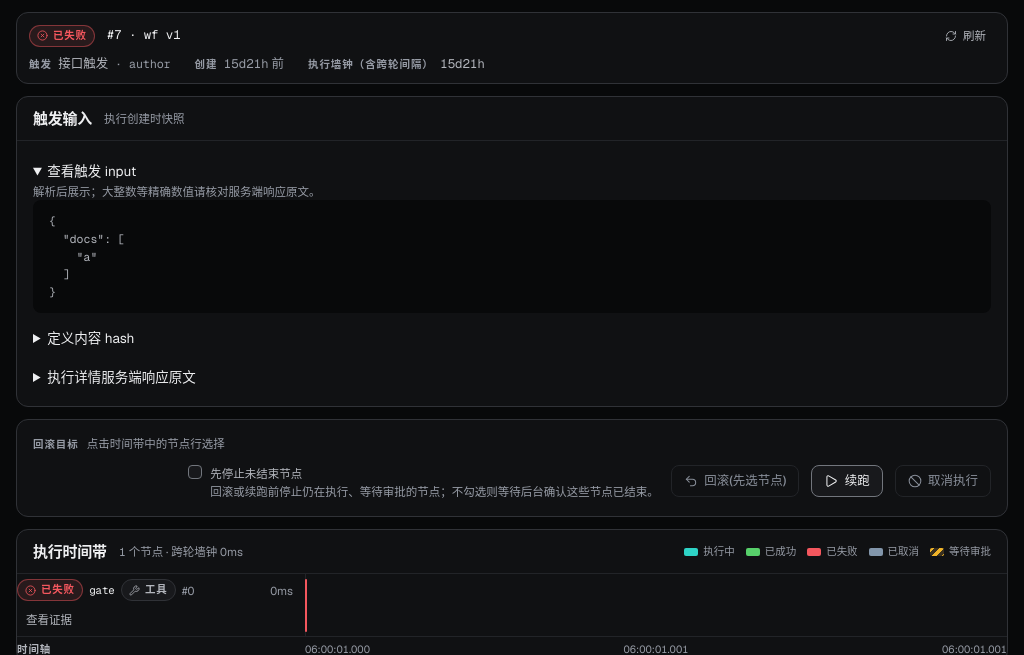
Test: ExecutionDetail(执行详情) › rollback 确认层已开后，读失败或在读期间 403 均零POST且允许放弃
The image size is (1024, 655).
Click the element showing "已失败 gate 工具 #0 0ms 查看证据". click: (512, 606)
box: [17,574,1007,637]
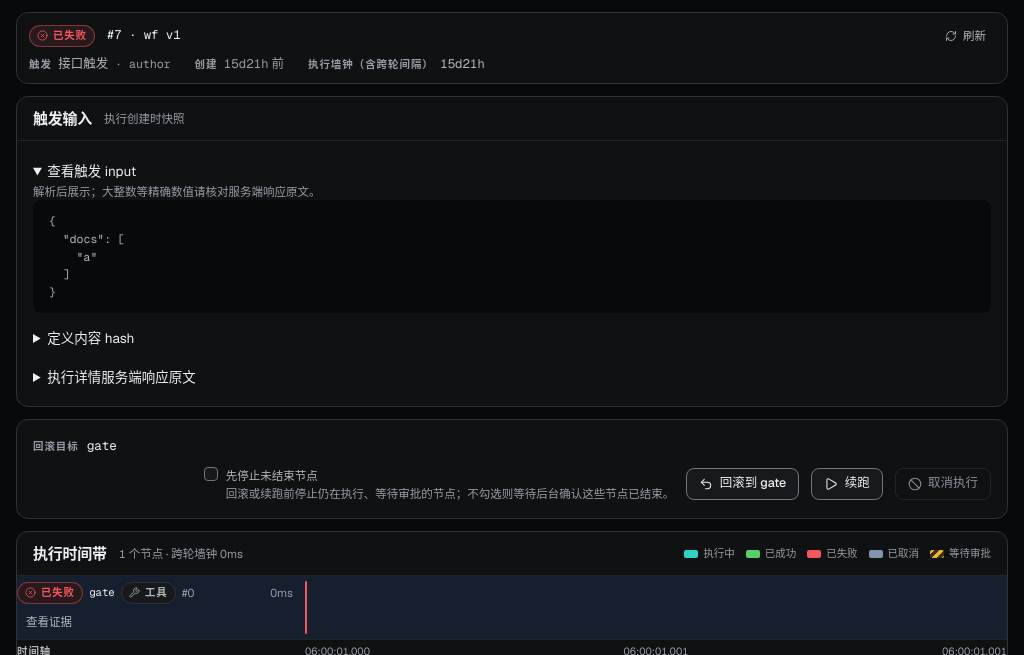
Click the button with test id "rollback-submit". click: (743, 484)
box: [686,468,799,500]
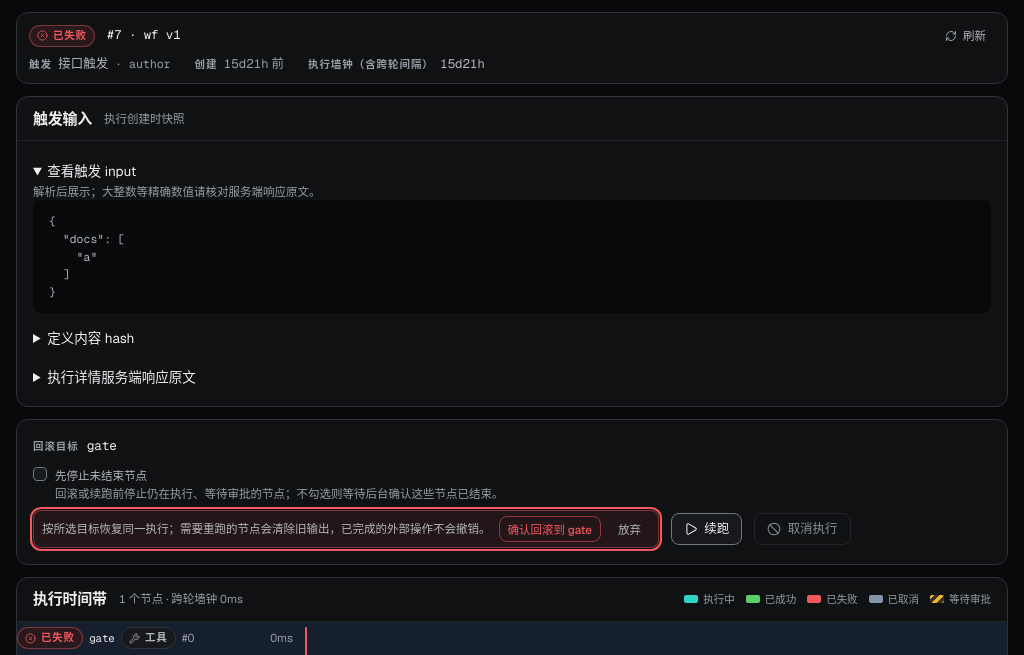
Click the button "刷新". click: (965, 36)
box: [936,23,995,49]
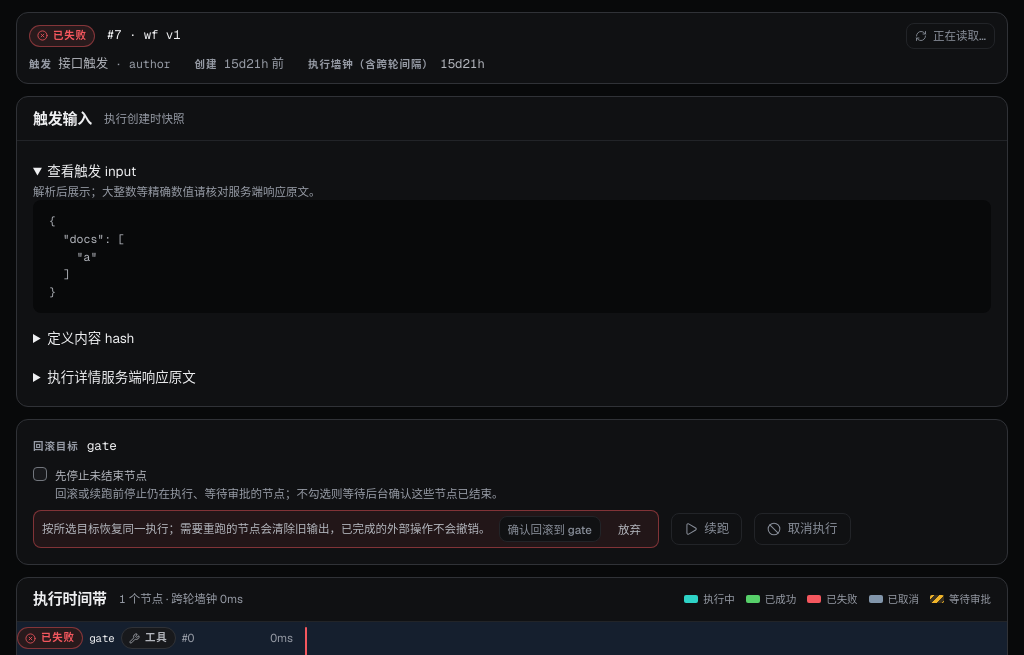
Expected: the button with test id "rollback-confirm" is disabled
Click the button with test id "rollback-confirm". click: (550, 529)
box: [498,516,601,542]
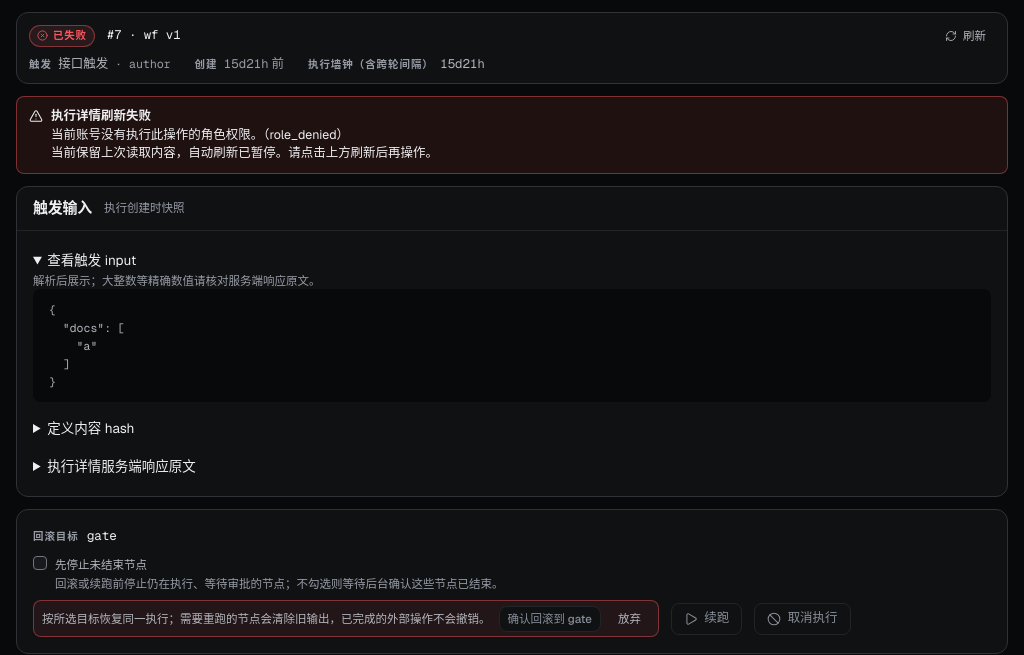
Expected: the button with test id "rollback-confirm" is disabled
Expected: the message shows "执行详情刷新失败", [51,107,151,124]
Click the button with test id "rollback-confirm". click: (550, 619)
box: [498,606,601,632]
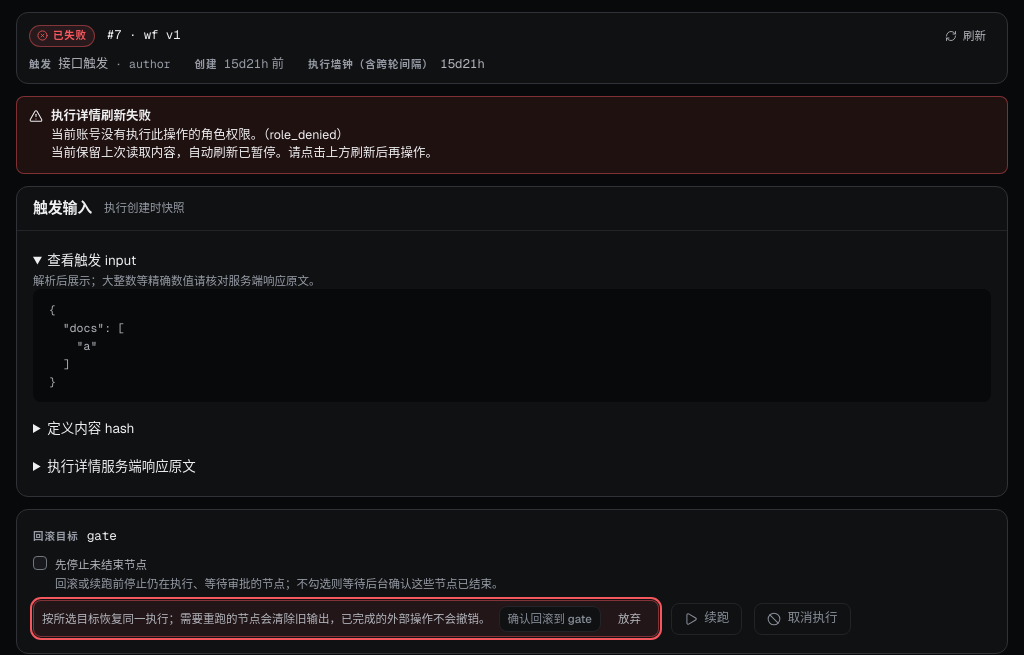
Expected: the button "放弃" is enabled
Click the button "放弃". click: (629, 619)
box: [609,606,650,632]
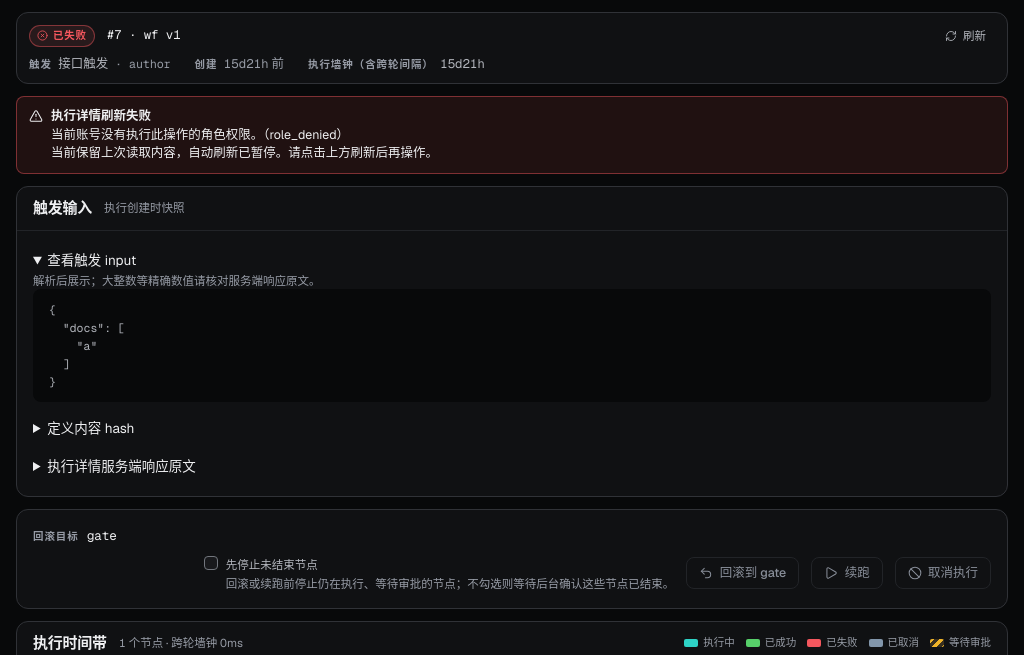
Expected: the button with test id "rollback-confirm" is gone
